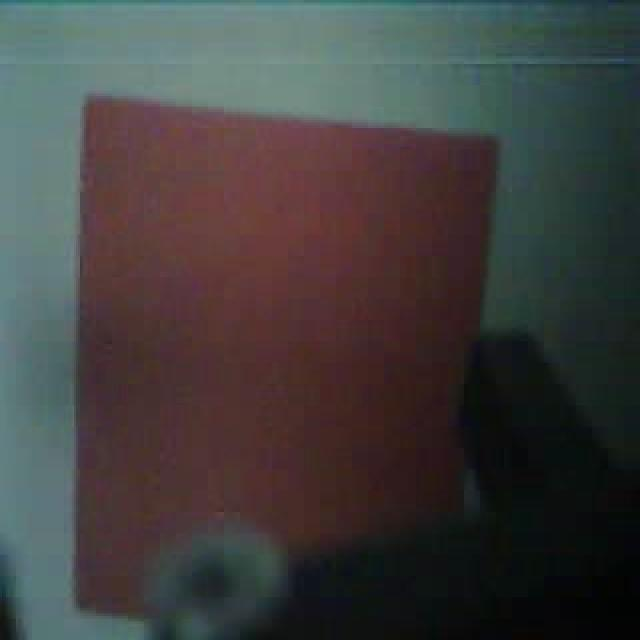red_box: (70, 88, 502, 619)
